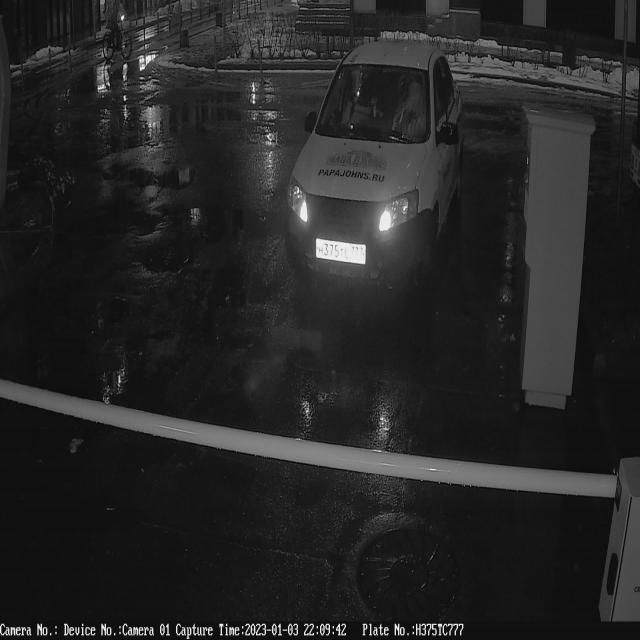car-plate-numbers: (315, 237, 370, 267)
